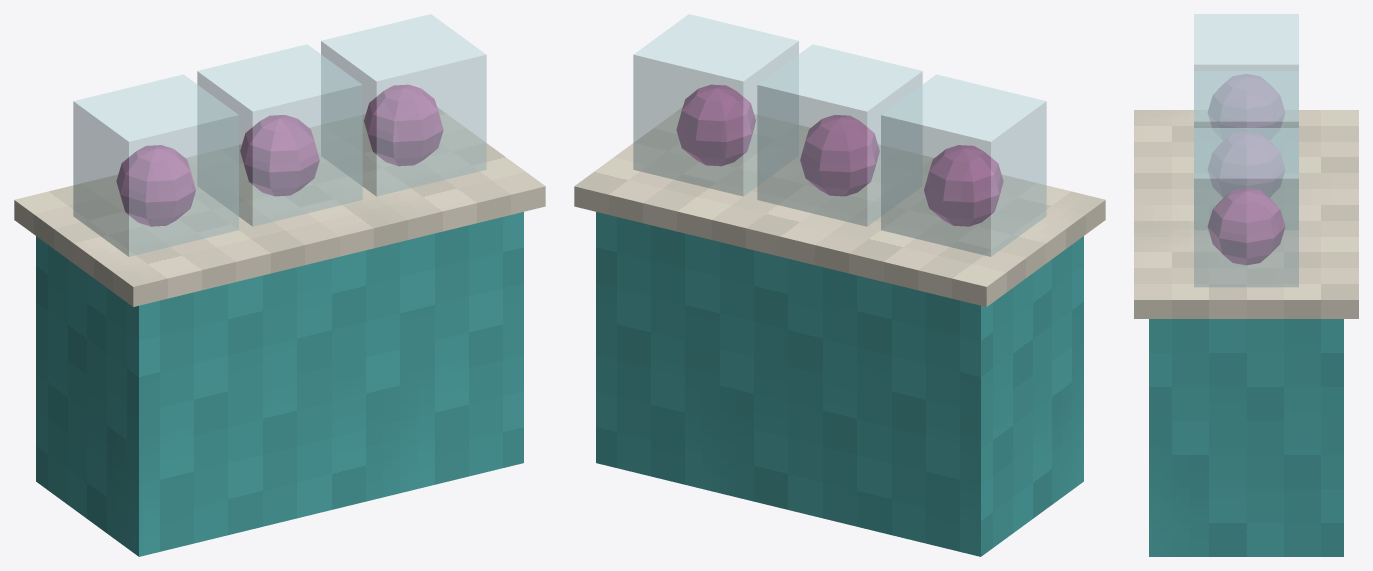
Rendered from retro-arcade-and-mall-1989-candy-bins-c349bb8e__15533.glb.
The picture shows the model from 3 angles, left to right: view 1: azimuth 30°, elevation 25°; view 2: azimuth 150°, elevation 25°; view 3: azimuth 270°, elevation 25°; orthographic projection. The views are drawn at different scales.
Parts seen in each view (by area): view 1: candy-bins; view 2: candy-bins; view 3: candy-bins.
Part boxes in pixels (x1,y1,x2,y2): candy-bins: (14,14,545,556); candy-bins: (574,14,1105,556); candy-bins: (1134,14,1358,556).
Size of the model in its own units: 1.5 by 1.37 by 0.7501.
Materials: 4 (3 with a texture image).
